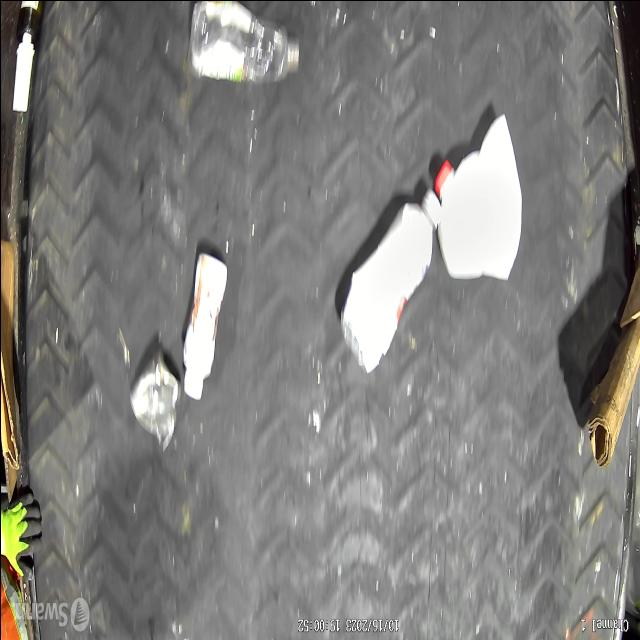can: (130, 346, 180, 454)
milk_jug: (436, 113, 520, 280)
plastic_bottle: (184, 0, 299, 87)
